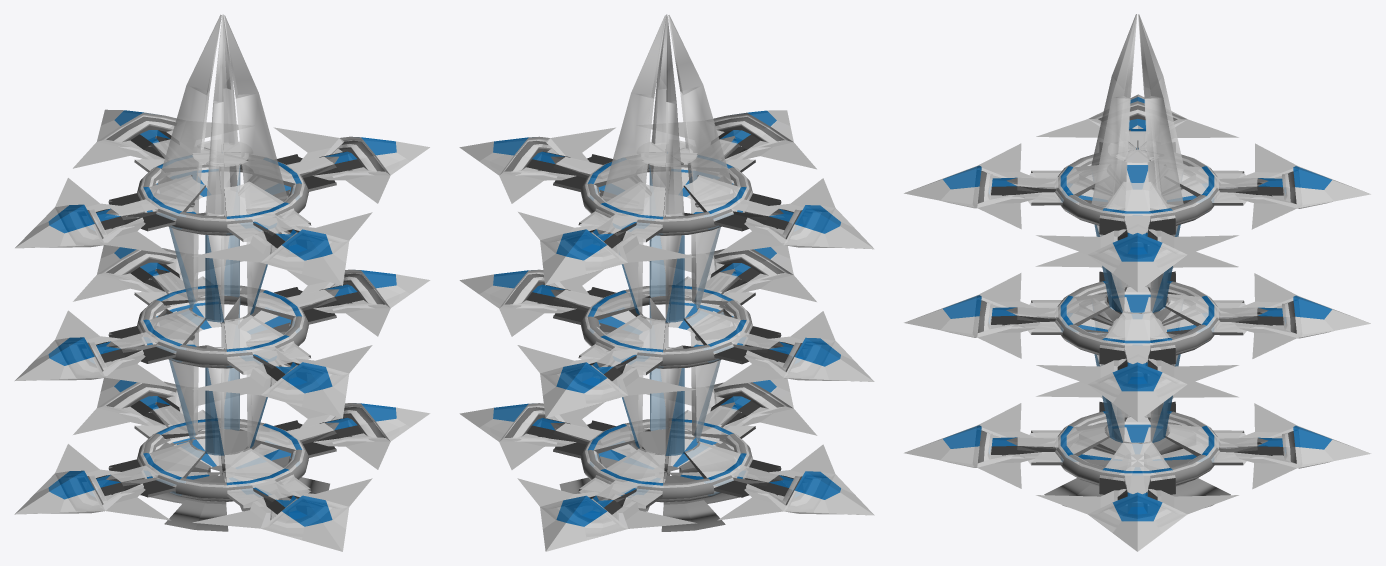
The model's file is PoleStarhub_1.fbx.
3 renders of one model, left to right at view 1: azimuth 30°, elevation 25°; view 2: azimuth 150°, elevation 25°; view 3: azimuth 270°, elevation 25°, orthographic. The views are drawn at different scales.
Visible parts, largest first — view 1: polySurface99, polySurface103, polySurface102, polySurface92, polySurface104, polySurface105, polySurface100, polySurface94, polySurface101, polySurface52, polySurface90, polySurface93 (+3 smaller); view 2: polySurface99, polySurface101, polySurface93, polySurface91, polySurface105, polySurface104, polySurface100, polySurface94, polySurface92, polySurface52, polySurface103, polySurface90 (+3 smaller); view 3: polySurface99, polySurface94, polySurface90, polySurface52, polySurface93, polySurface91, polySurface103, polySurface101, polySurface92, polySurface102, polySurface100, polySurface105 (+3 smaller).
Boxes of the visible parts, x1=… form: polySurface99: x1=102, y1=14, x2=336, y2=531; polySurface103: x1=192, y1=478, x2=372, y2=551; polySurface102: x1=192, y1=345, x2=372, y2=418; polySurface92: x1=192, y1=212, x2=372, y2=285; polySurface104: x1=14, y1=310, x2=170, y2=386; polySurface105: x1=14, y1=444, x2=170, y2=520; polySurface100: x1=15, y1=178, x2=170, y2=254; polySurface94: x1=273, y1=127, x2=429, y2=203; polySurface101: x1=73, y1=109, x2=250, y2=168; polySurface52: x1=285, y1=402, x2=430, y2=469; polySurface90: x1=287, y1=269, x2=430, y2=336; polySurface93: x1=73, y1=376, x2=244, y2=434; polySurface99: x1=553, y1=14, x2=787, y2=531; polySurface101: x1=518, y1=212, x2=696, y2=285; polySurface93: x1=517, y1=478, x2=696, y2=551; polySurface91: x1=517, y1=345, x2=696, y2=418; polySurface105: x1=717, y1=444, x2=874, y2=520; polySurface104: x1=718, y1=311, x2=874, y2=386; polySurface100: x1=717, y1=178, x2=874, y2=254; polySurface94: x1=459, y1=127, x2=615, y2=203; polySurface92: x1=639, y1=110, x2=816, y2=169; polySurface52: x1=459, y1=402, x2=604, y2=469; polySurface103: x1=646, y1=378, x2=817, y2=435; polySurface90: x1=459, y1=269, x2=603, y2=336; polySurface99: x1=1008, y1=14, x2=1265, y2=507; polySurface94: x1=1036, y1=229, x2=1238, y2=291; polySurface90: x1=1036, y1=358, x2=1238, y2=421; polySurface52: x1=1036, y1=489, x2=1238, y2=551; polySurface93: x1=1233, y1=403, x2=1371, y2=489; polySurface91: x1=1233, y1=273, x2=1370, y2=358; polySurface103: x1=904, y1=403, x2=1041, y2=488; polySurface101: x1=1233, y1=143, x2=1370, y2=229; polySurface92: x1=904, y1=143, x2=1041, y2=229; polySurface102: x1=904, y1=273, x2=1041, y2=358; polySurface100: x1=1036, y1=94, x2=1238, y2=138; polySurface105: x1=1036, y1=381, x2=1238, y2=399.
Size of the model in its own units: 399 by 450 by 398.
